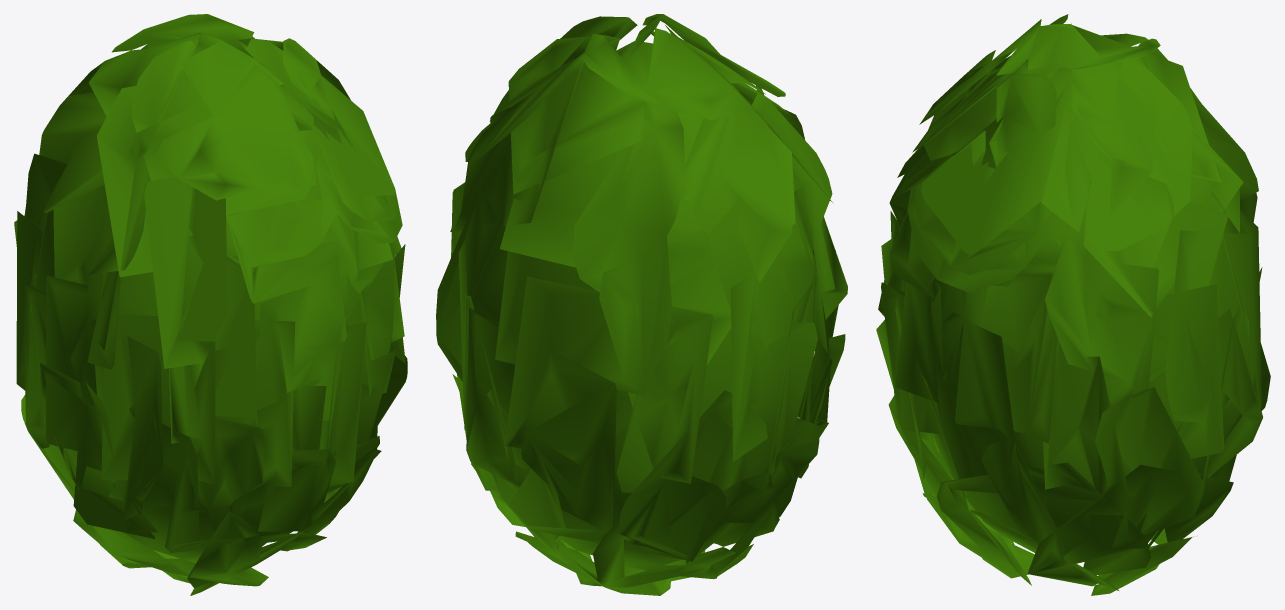
The model's file is Bush.02.fbx.
3 views of the same model, side by side, from view 1: azimuth 30°, elevation 25°; view 2: azimuth 150°, elevation 25°; view 3: azimuth 270°, elevation 25° (orthographic).
Parts seen in each view (by area): view 1: null2; view 2: null2; view 3: null2.
Part boxes in pixels (left/top/right/bottom): null2: left=14, top=14, right=407, bottom=595; null2: left=436, top=14, right=847, bottom=595; null2: left=876, top=14, right=1270, bottom=595.
Size of the model in its own units: 1.7 by 2.56 by 1.65.
